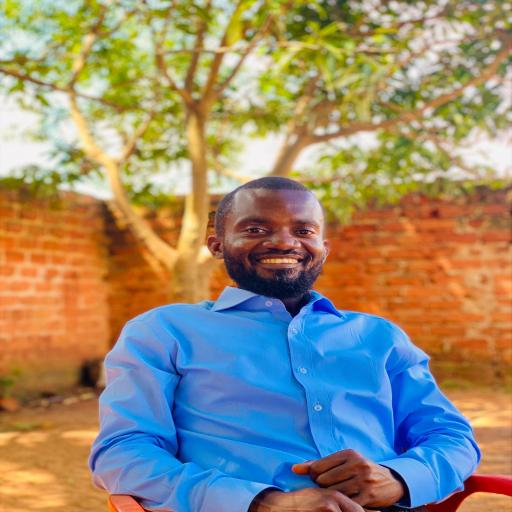MATTHIEU: (206, 168, 342, 316)
